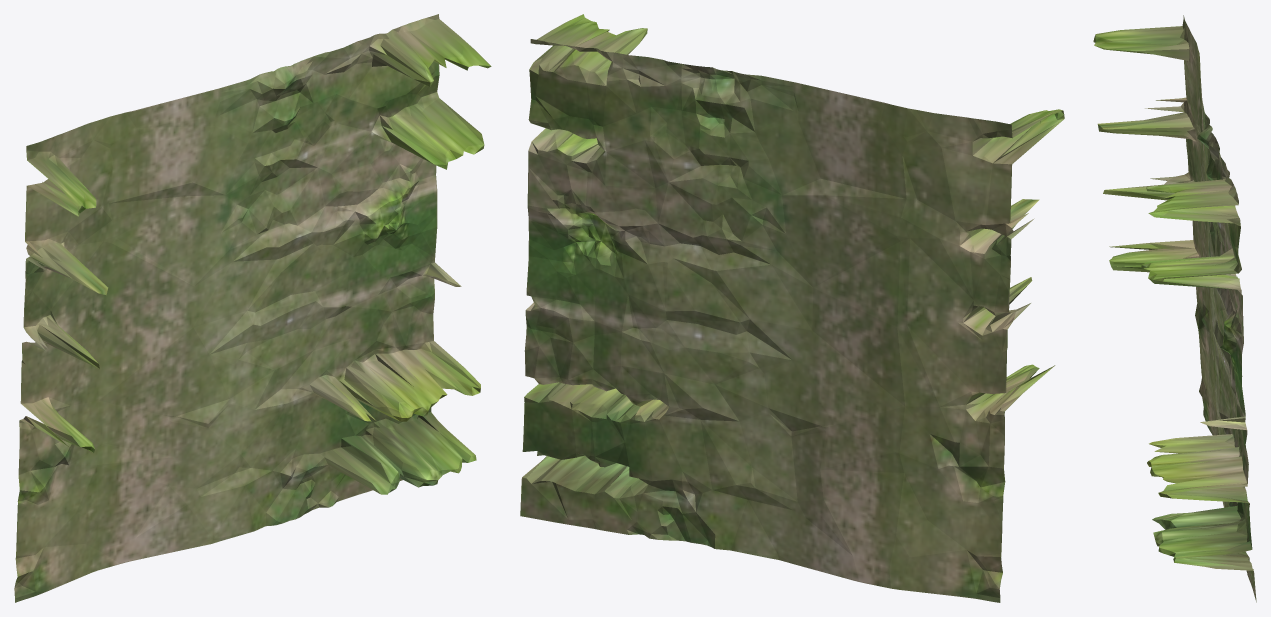
File: map_90_10.obj
The picture shows the model from 3 angles, left to right: view 1: azimuth 30°, elevation 25°; view 2: azimuth 150°, elevation 25°; view 3: azimuth 270°, elevation 25°; orthographic projection. The views are drawn at different scales.
Parts seen in each view (by area): view 1: grp1; view 2: grp1; view 3: grp1.
Part boxes in pixels (x1,y1,x2,y2): grp1: [14, 14, 491, 602]; grp1: [520, 14, 1064, 602]; grp1: [1093, 15, 1256, 602].
Bounding box in the file's own units: 10 × 10 × 3.68.
1 material, 1 textured.
